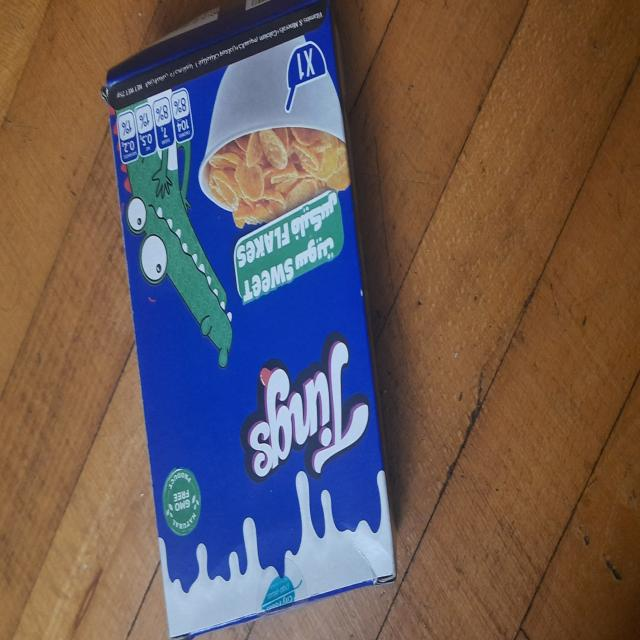cardboard: (48, 0, 450, 640)
